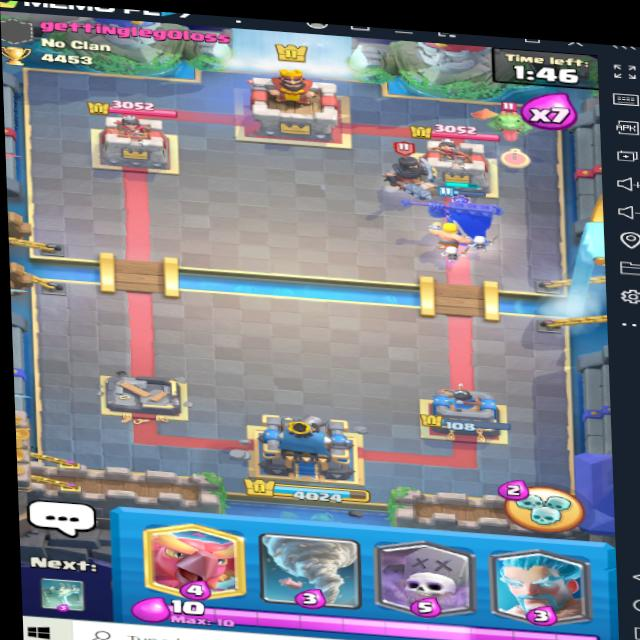Babydragon: (476, 100, 540, 144)
Darkprince: (374, 137, 445, 201)
